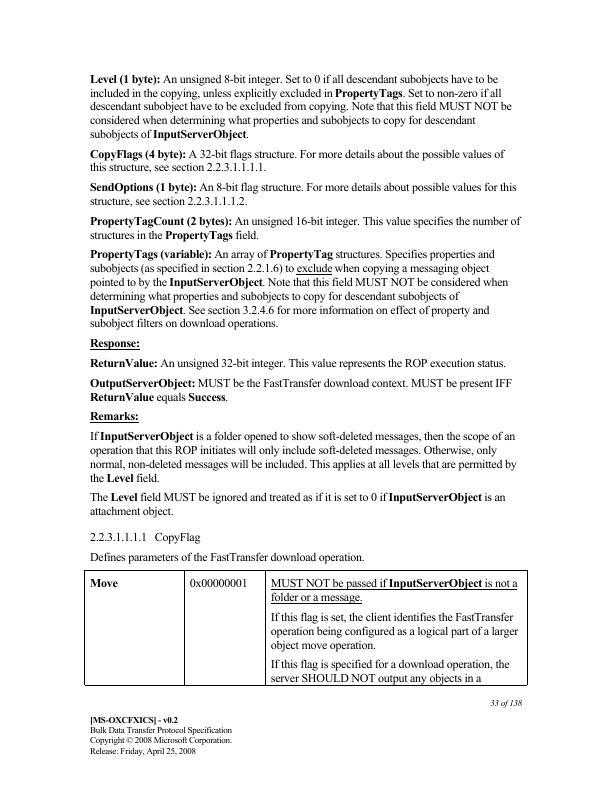table: (82, 567, 530, 689)
text: (87, 246, 510, 331), (86, 71, 513, 141), (87, 429, 519, 486), (87, 214, 526, 243), (88, 146, 512, 176), (87, 376, 513, 405), (87, 489, 508, 518), (87, 181, 518, 206), (87, 713, 235, 760), (87, 356, 509, 372), (85, 551, 368, 565), (87, 529, 205, 547), (87, 336, 145, 351), (87, 409, 140, 423), (489, 696, 523, 711)
